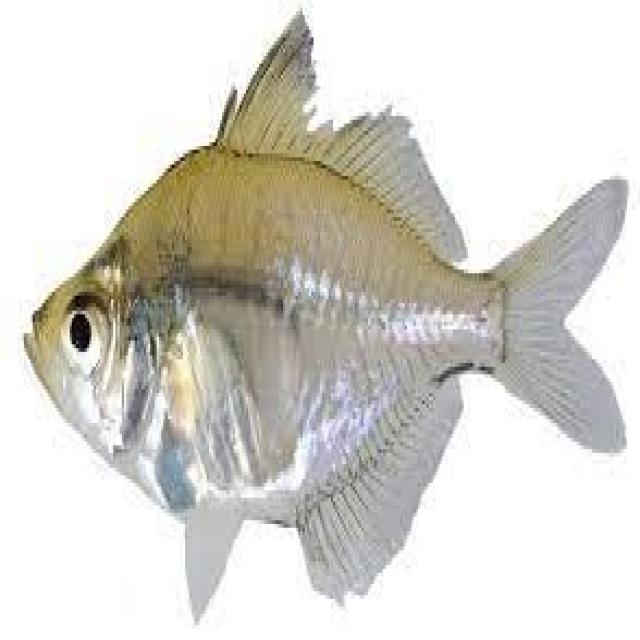Glass-Perchlet: (5, 15, 631, 611)
